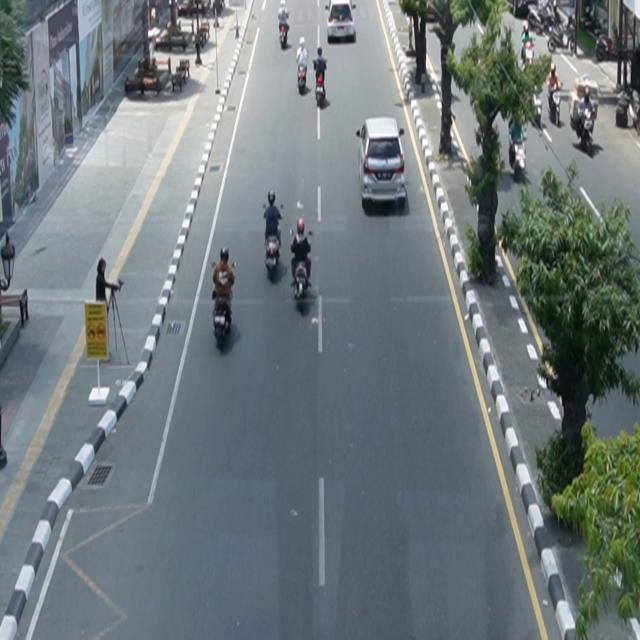car: (357, 117, 408, 210), (326, 1, 357, 44)
